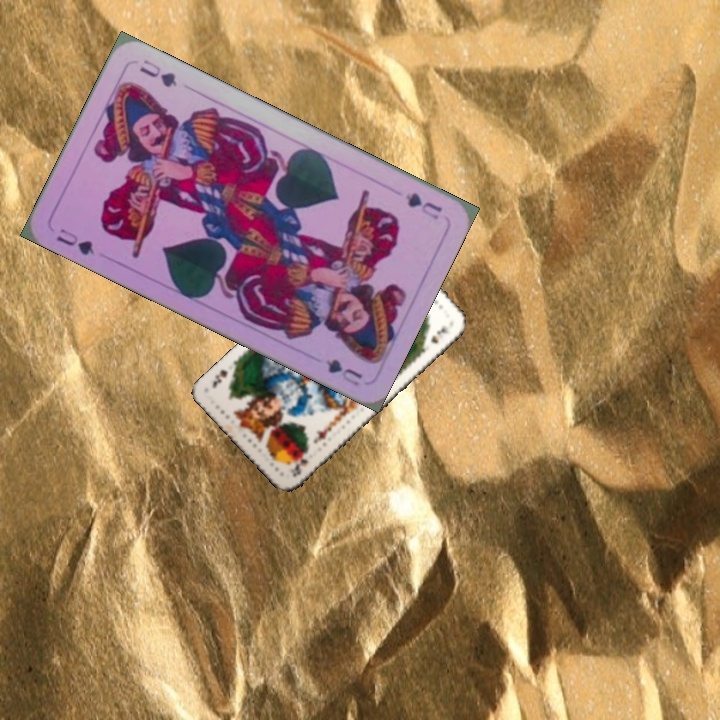GU: (401, 188, 445, 223), (52, 224, 97, 258)
SK: (287, 451, 311, 479)
